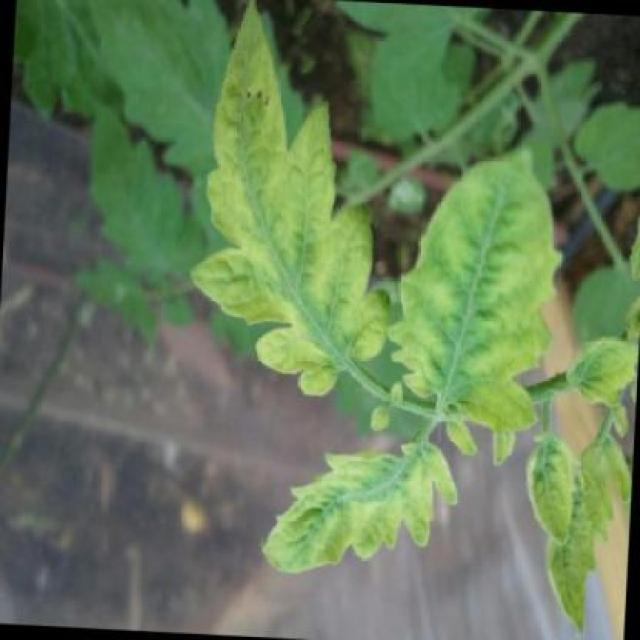Healthy Leaf: (193, 0, 404, 408), (394, 102, 578, 426), (231, 419, 455, 596), (534, 441, 628, 639), (518, 432, 574, 553)
